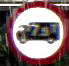Heavy Vehicles: (7, 0, 68, 65)
